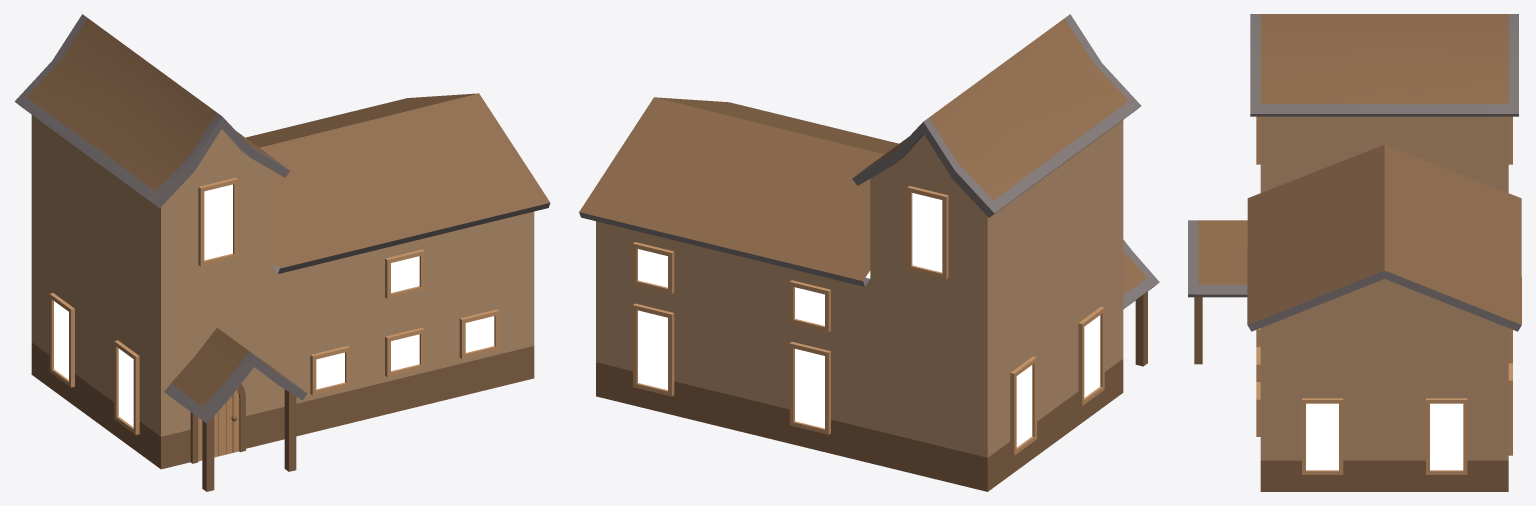
File: SM_Library.fbx
The picture shows the model from 3 angles, left to right: view 1: azimuth 30°, elevation 25°; view 2: azimuth 150°, elevation 25°; view 3: azimuth 270°, elevation 25°; orthographic projection. The views are drawn at different scales.
Parts seen in each view (by area): view 1: Cube.013, WindowTall_01.006, DoorCurved_01.004, WindowTall_01.010, WindowTall_01.009, WindowSmall_01.033, WindowSmall_01.031, WindowSmall_01.032, WindowSmall_01.034; view 2: Cube.013, WindowTall_01.011, WindowTall_01.012, WindowTall_01.013, WindowTall_01.009, WindowTall_01.010, WindowSmall_01.036, WindowSmall_01.035; view 3: Cube.013, WindowTall_01.007, WindowTall_01.008, WindowTall_01.011.
Part boxes in pixels (bbox=[...]): Cube.013: bbox=[14, 14, 550, 491]; WindowTall_01.006: bbox=[198, 177, 237, 266]; DoorCurved_01.004: bbox=[190, 384, 245, 463]; WindowTall_01.010: bbox=[114, 340, 139, 434]; WindowTall_01.009: bbox=[49, 293, 74, 387]; WindowSmall_01.033: bbox=[459, 309, 499, 358]; WindowSmall_01.031: bbox=[310, 346, 349, 395]; WindowSmall_01.032: bbox=[385, 327, 424, 377]; WindowSmall_01.034: bbox=[385, 249, 424, 298]; Cube.013: bbox=[579, 14, 1159, 491]; WindowTall_01.011: bbox=[633, 303, 674, 396]; WindowTall_01.012: bbox=[907, 186, 948, 278]; WindowTall_01.013: bbox=[789, 342, 830, 434]; WindowTall_01.009: bbox=[1010, 356, 1036, 455]; WindowTall_01.010: bbox=[1078, 307, 1104, 405]; WindowSmall_01.036: bbox=[789, 280, 830, 332]; WindowSmall_01.035: bbox=[633, 242, 674, 293]; Cube.013: bbox=[1188, 14, 1521, 491]; WindowTall_01.007: bbox=[1302, 398, 1343, 474]; WindowTall_01.008: bbox=[1426, 398, 1467, 474]; WindowTall_01.011: bbox=[1508, 363, 1512, 455].
Bounding box in the file's own units: 1057 × 878 × 807.
